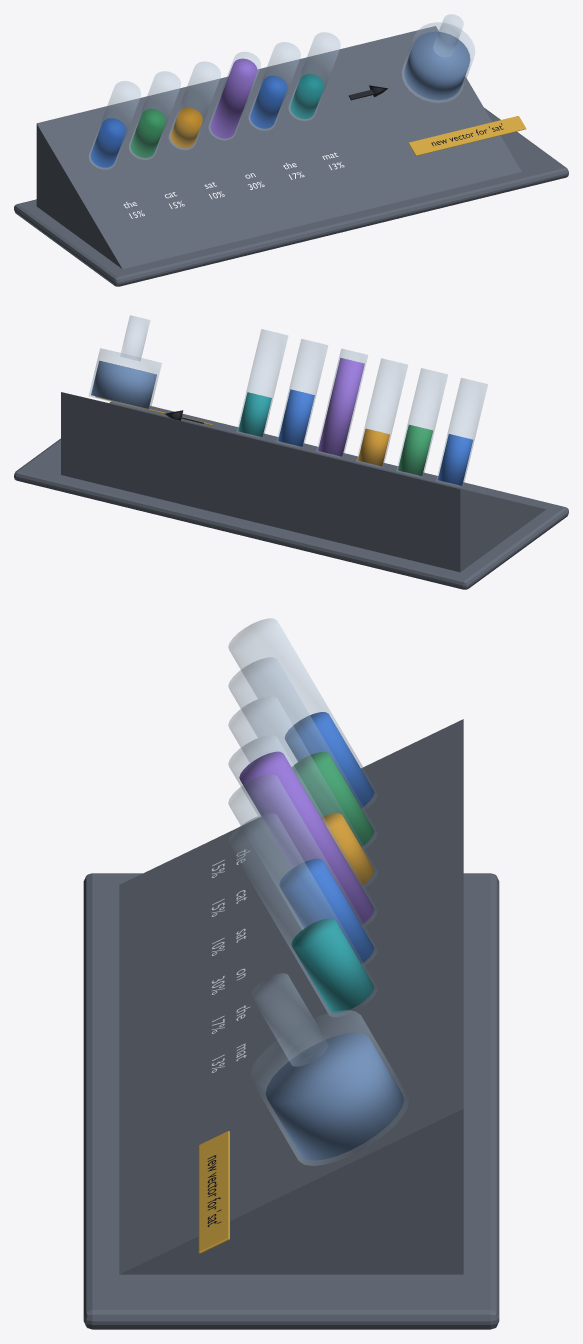
The model's file is mix.glb.
3 views of the same model, one above another, from view 1: azimuth 30°, elevation 25°; view 2: azimuth 150°, elevation 25°; view 3: azimuth 270°, elevation 25° (orthographic). The views are drawn at different scales.
Parts seen in each view (by area): view 1: slope, stand, belly, blend, glass, glass.001, glass.004, glass.005, glass.002, glass.003, liquid.003, lbl_p (+6 smaller); view 2: slope, stand, belly, glass, glass.001, glass.002, glass.005, glass.003, glass.004, liquid.003, blend, liquid.004 (+4 smaller); view 3: slope, stand, belly, glass.005, blend, glass.004, glass.001, glass, liquid.003, glass.002, glass.003, liquid.005 (+6 smaller).
Boxes of the visible parts, x1,y1,x2,y2 form: slope: (36, 26, 521, 269); stand: (14, 107, 568, 286); belly: (402, 14, 474, 102); blend: (404, 31, 470, 100); glass: (89, 81, 140, 169); glass.001: (129, 71, 180, 159); glass.004: (249, 42, 300, 130); glass.005: (289, 32, 340, 120); glass.002: (169, 61, 220, 149); glass.003: (209, 52, 260, 140); liquid.003: (210, 58, 257, 138); lbl_p: (408, 116, 526, 155); slope: (61, 392, 545, 572); stand: (14, 401, 568, 589); belly: (89, 315, 161, 410); glass: (436, 378, 487, 487); glass.001: (396, 368, 447, 477); glass.002: (356, 358, 407, 467); glass.005: (236, 329, 287, 438); glass.003: (316, 349, 367, 457); glass.004: (276, 339, 327, 448); liquid.003: (318, 358, 364, 456); blend: (91, 360, 156, 408); liquid.004: (278, 389, 314, 446); slope: (119, 719, 463, 1274); stand: (83, 873, 499, 1329); belly: (250, 973, 408, 1165); glass.005: (228, 813, 377, 1016); blend: (265, 1032, 403, 1160); glass.004: (228, 774, 377, 966); glass.001: (228, 657, 377, 849); glass: (228, 618, 377, 810); liquid.003: (239, 751, 374, 924); glass.002: (228, 696, 377, 888); glass.003: (228, 735, 377, 927); liquid.005: (291, 918, 374, 1013).
Bounding box in the file's own units: 1.48 × 0.4954 × 0.5857.
